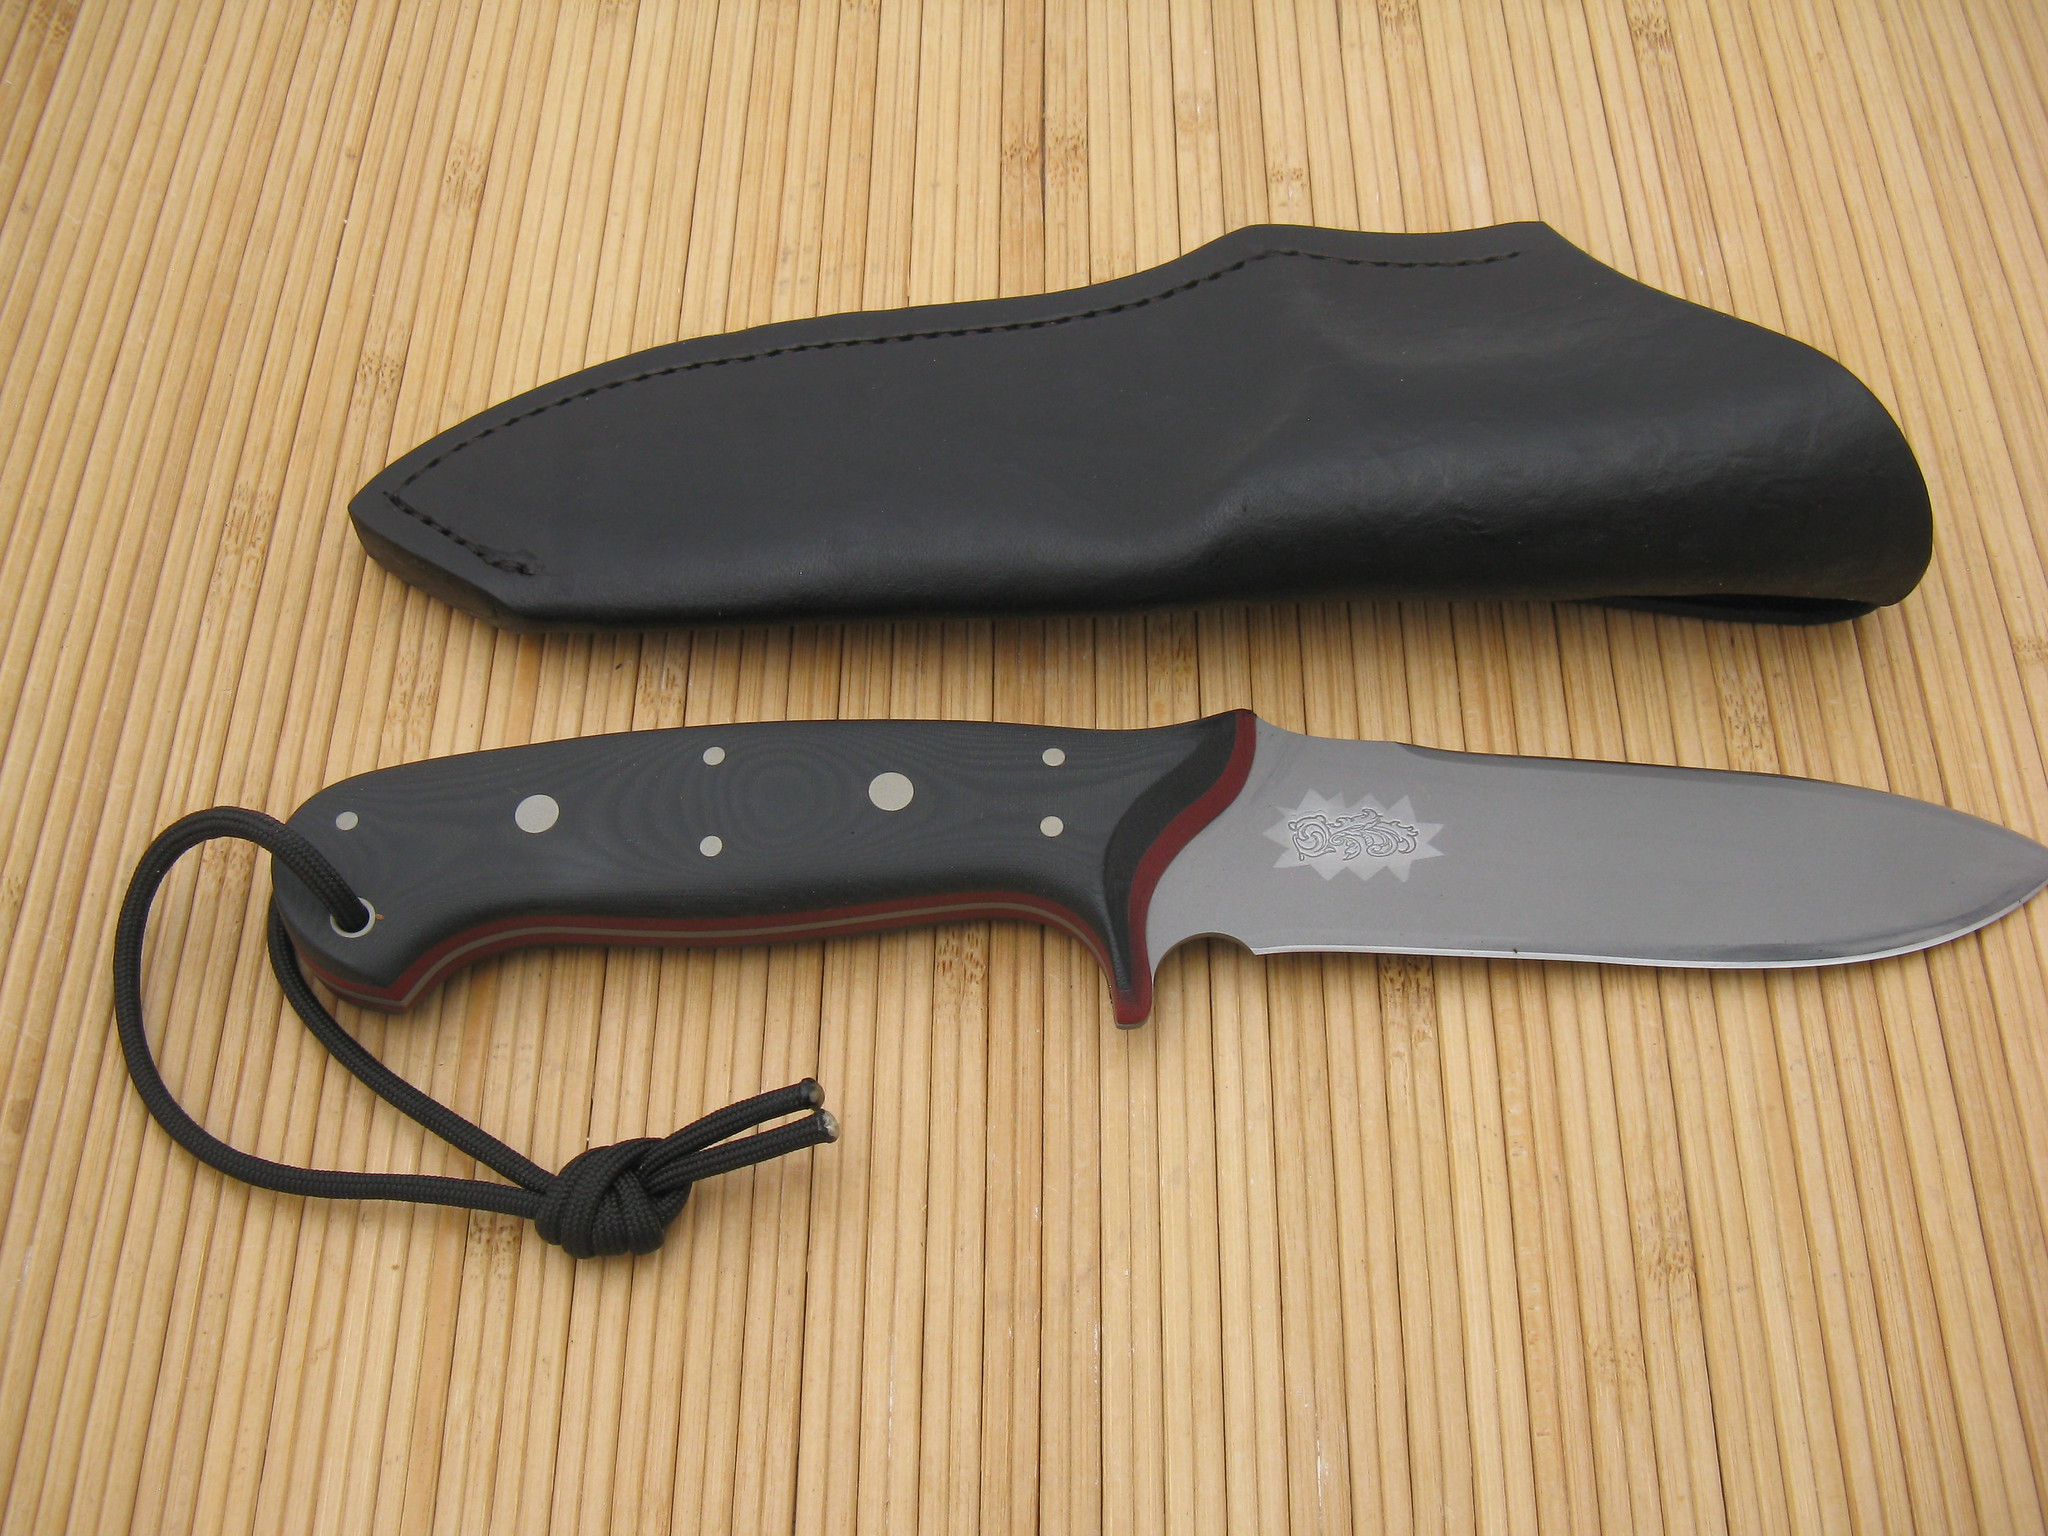knife: (235, 682, 2048, 1131)
